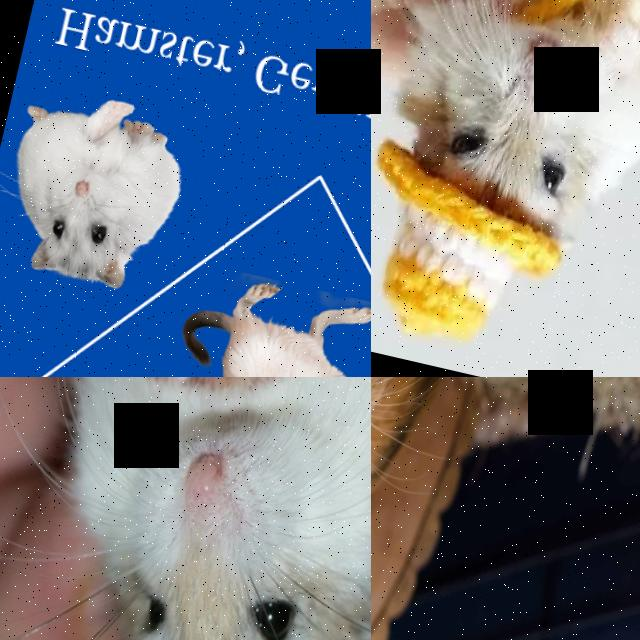hamster: (0, 377, 371, 640), (388, 0, 640, 239), (0, 76, 202, 303), (371, 377, 508, 575)
